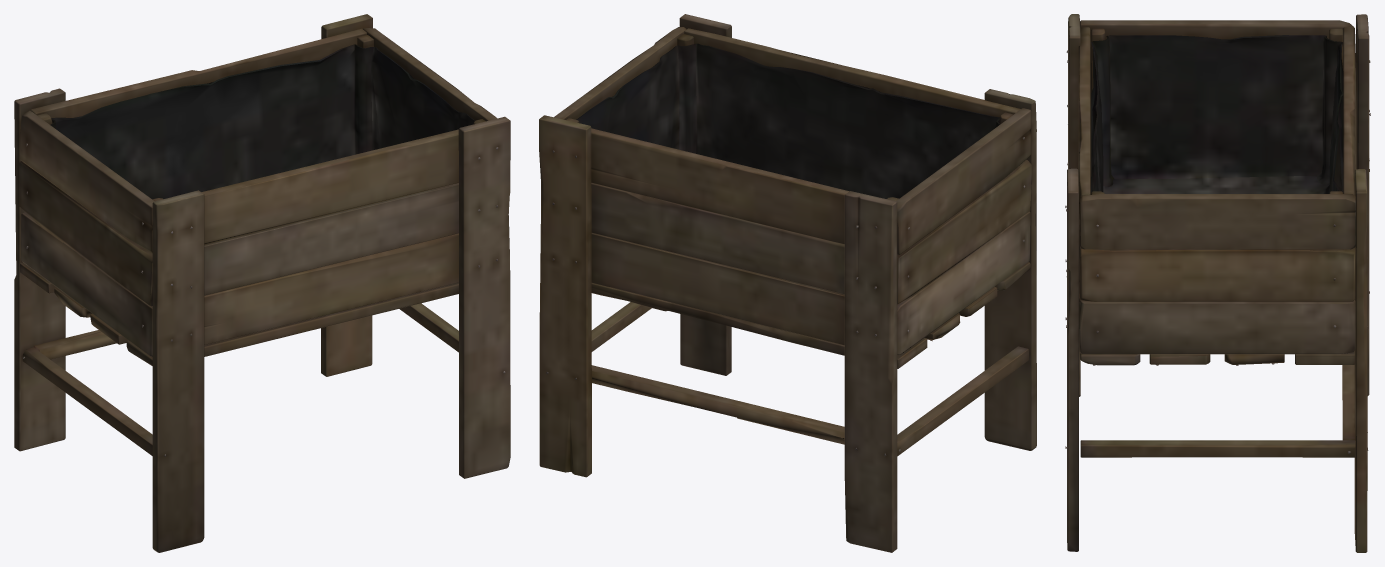
Rendered from jardiniere_haute_bois_lod0.glb.
3 views of the same model, side by side, from view 1: azimuth 30°, elevation 25°; view 2: azimuth 150°, elevation 25°; view 3: azimuth 270°, elevation 25° (orthographic). The views are drawn at different scales.
Parts seen in each view (by area): view 1: planter_box_03; view 2: planter_box_03; view 3: planter_box_03.
Part boxes in pixels (x1,y1,x2,y2): planter_box_03: (14,14,510,552); planter_box_03: (539,14,1036,552); planter_box_03: (1065,14,1370,552).
Size of the model in its own units: 0.9143 by 0.8552 by 0.6556.
Materials: 1 (1 with a texture image).
